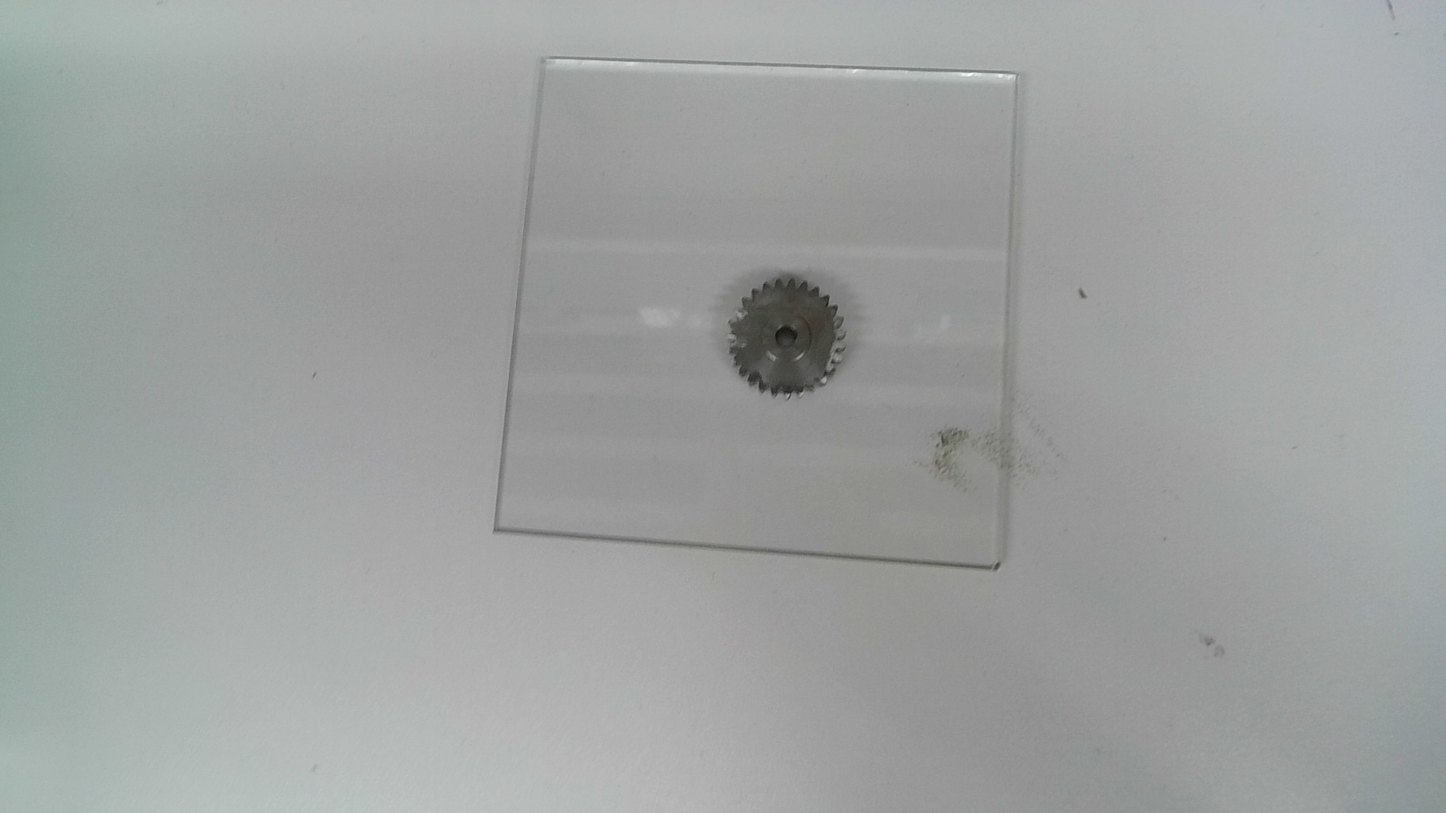gear: (725, 274, 848, 403)
